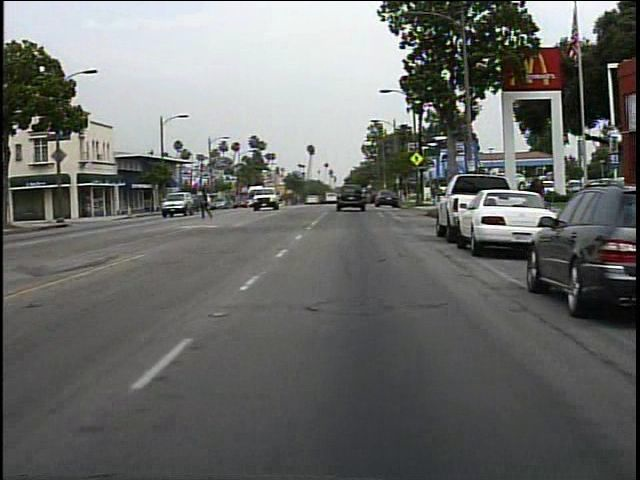person: (524, 169, 551, 226), (197, 184, 216, 222)
